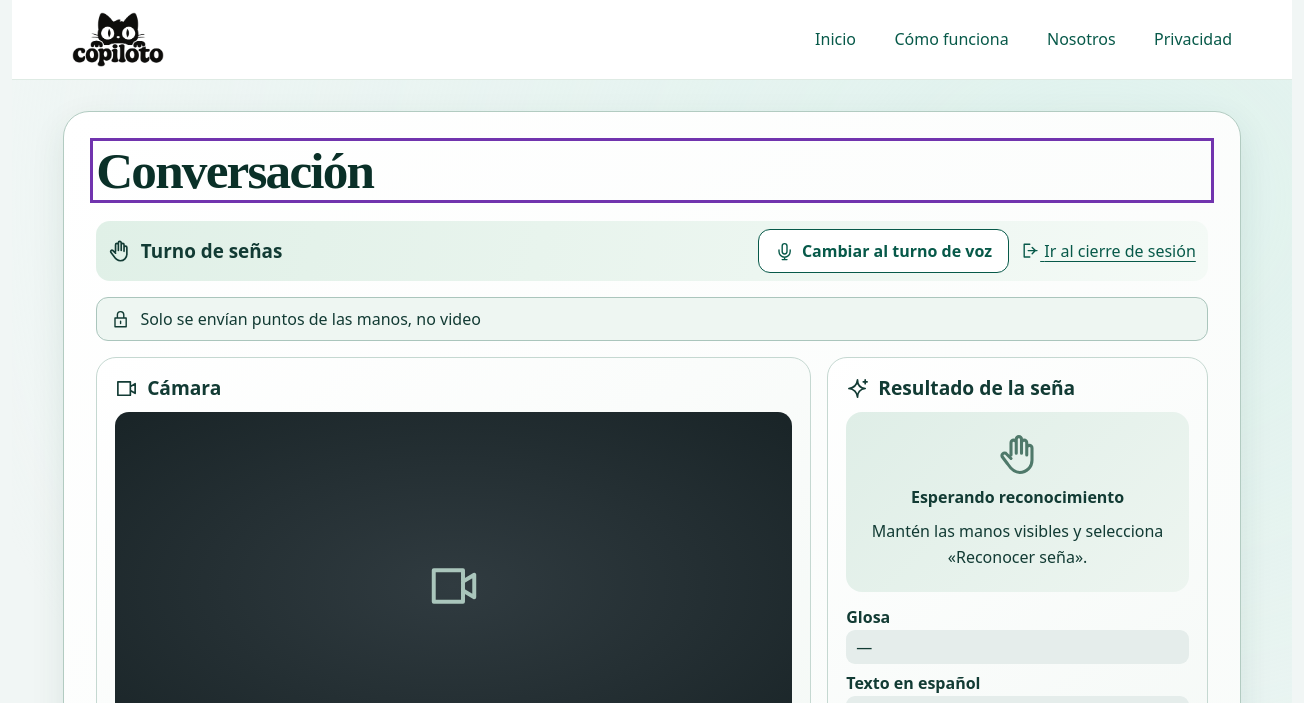
Test: revisa el control de turno y los estados visibles del modo voz
The image size is (1304, 703).
Click the button "Cambiar al turno de voz" at (883, 252), box [758,230,1009,274]
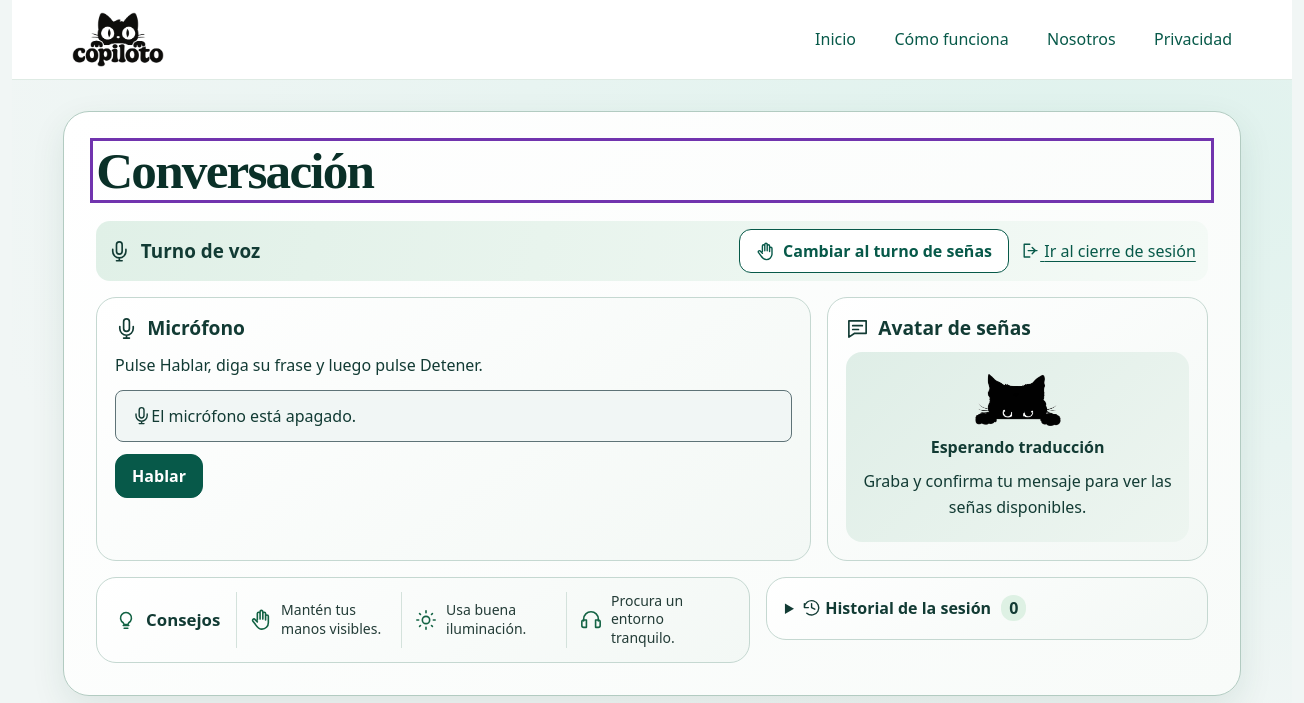
Expected: the number of buttons "Cambiar al turno de señas" is 1, [739,230,1009,274]
Expected: the button "Hablar" is shown, [115,454,203,498]
Expected: the text "El micrófono está apagado." is shown, [115,390,792,442]
